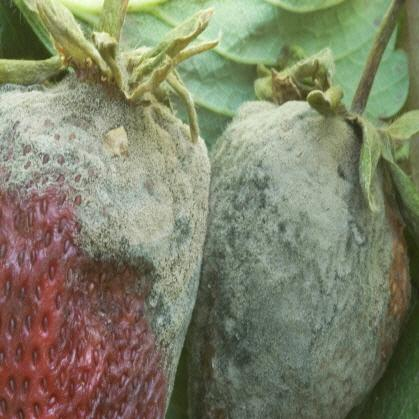Gray Mold: (183, 68, 418, 418), (0, 67, 213, 418)
